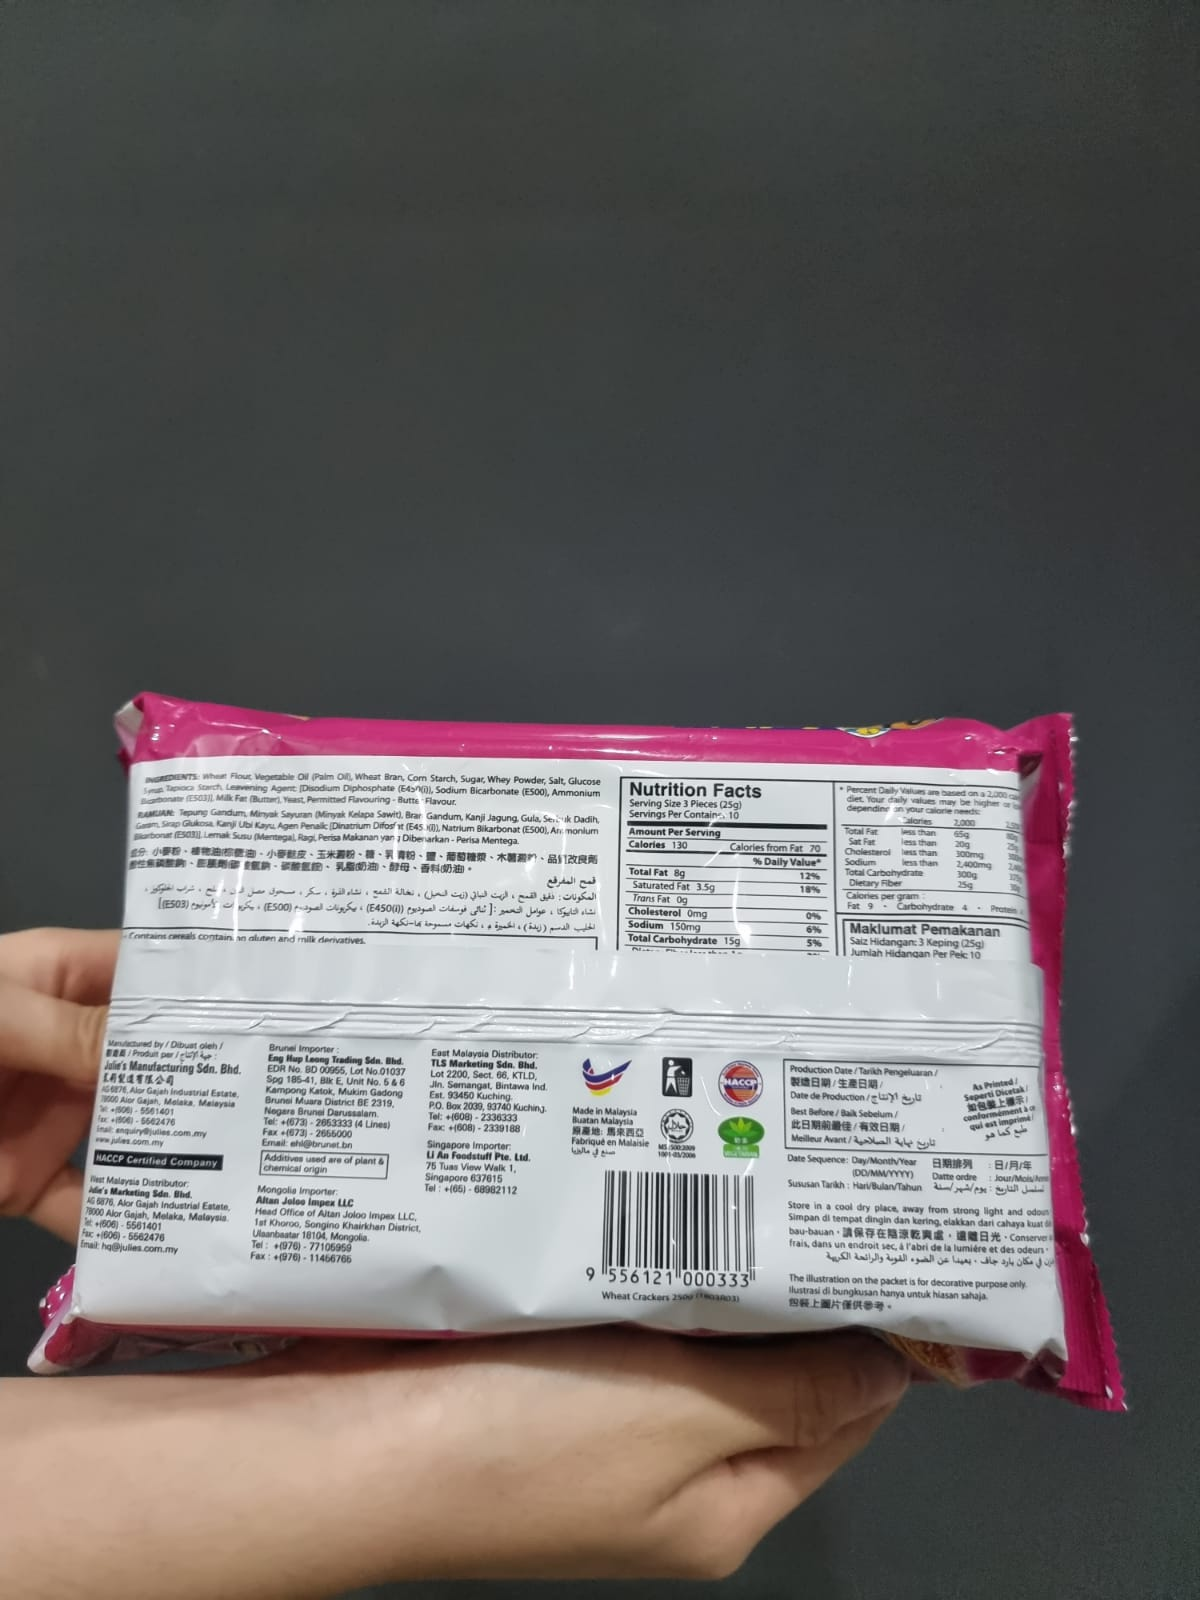Biscuits: (124, 738, 1059, 1332)
